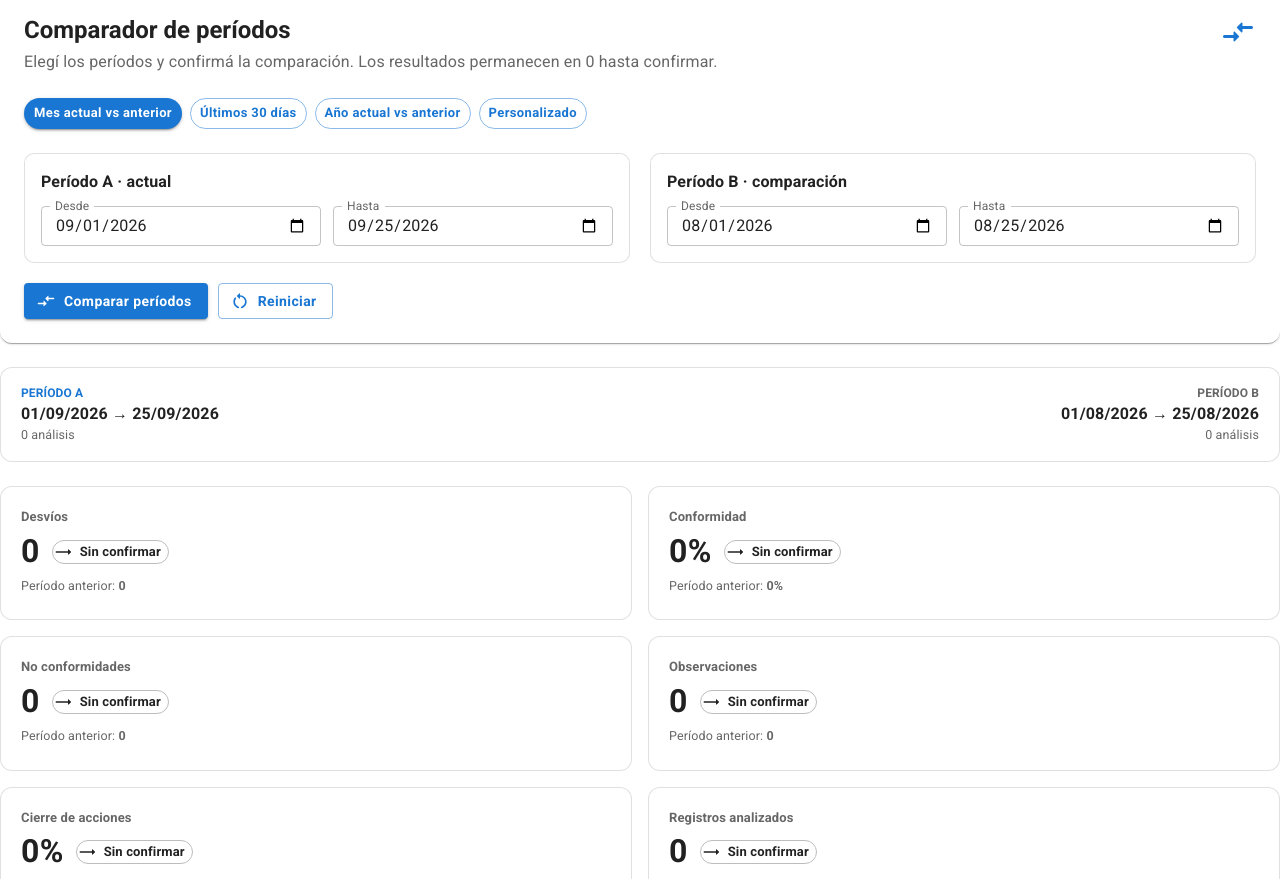
it: only loads comparison data after explicit confirmation
The image size is (1280, 879).
What coordinates should you click on to do the following:
click the button "Comparar períodos"
I would click on:
 (116, 301)
Its box is [24,283,208,319].
(page scrolled)
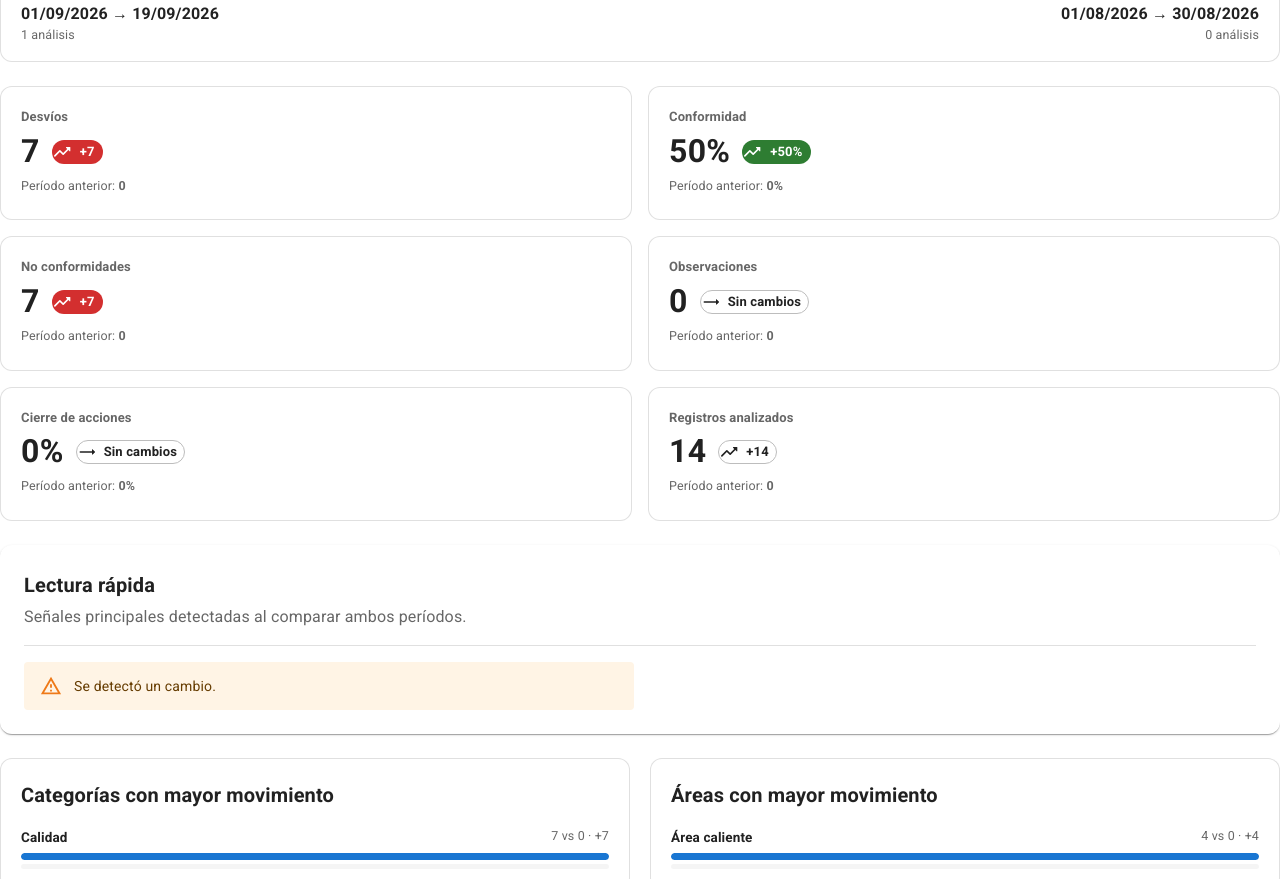
Now the text "14" is shown, box [669,435,706,467]
Now the text "Se detectó un cambio." is shown, box [74,678,216,694]
